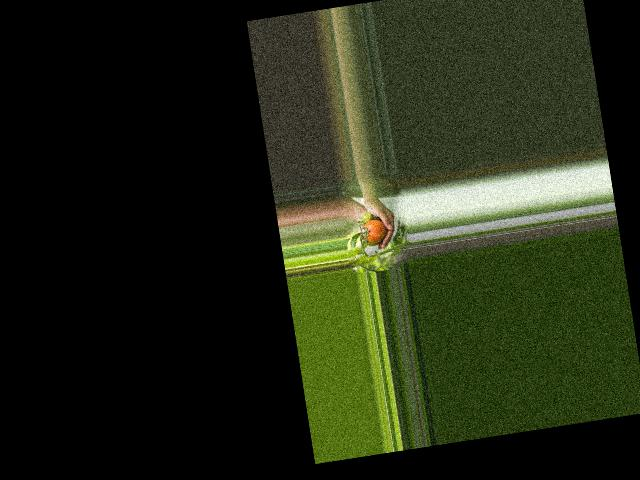tomato: (361, 217, 387, 243)
